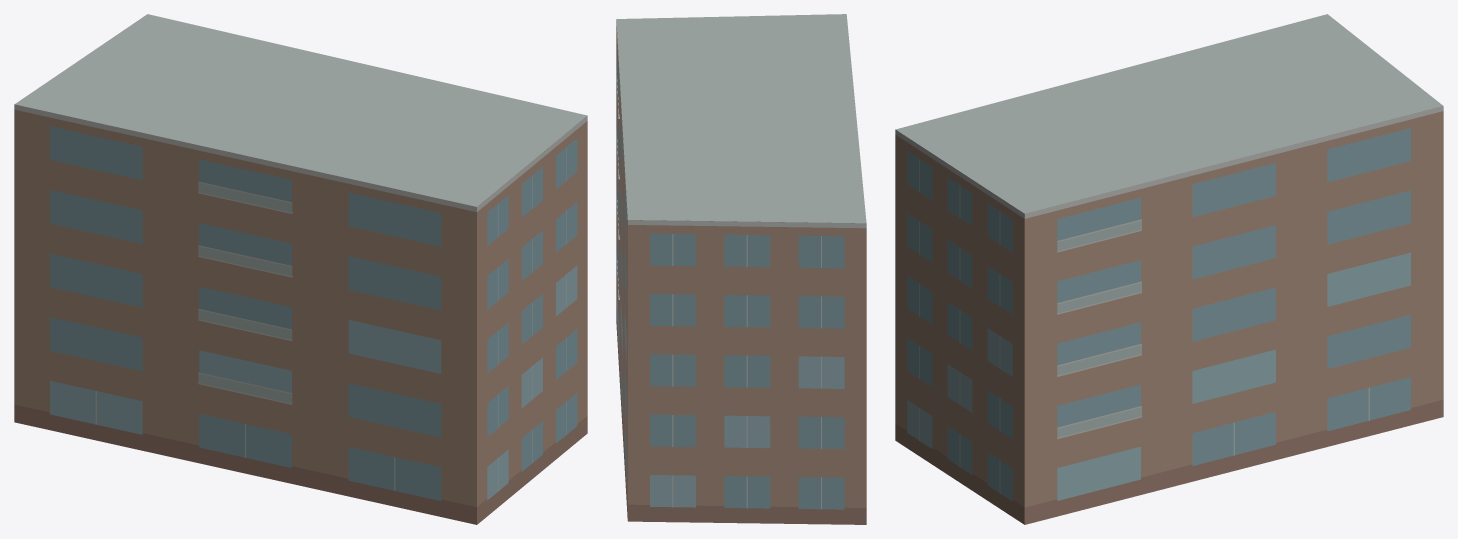
File: survey-upis-32780378.glb
3 views of the same model, side by side, from view 1: azimuth 30°, elevation 25°; view 2: azimuth 150°, elevation 25°; view 3: azimuth 270°, elevation 25° (orthographic). The views are drawn at different scales.
Parts seen in each view (by area): view 1: survey-upis-32780378.tmp; view 2: survey-upis-32780378.tmp; view 3: survey-upis-32780378.tmp.
Part boxes in pixels (box(x1,y1,x2,y2)): survey-upis-32780378.tmp: box(14, 14, 587, 524); survey-upis-32780378.tmp: box(616, 14, 866, 524); survey-upis-32780378.tmp: box(895, 14, 1443, 524).
Size of the model in its own units: 20.39 by 14.8 by 23.64.
